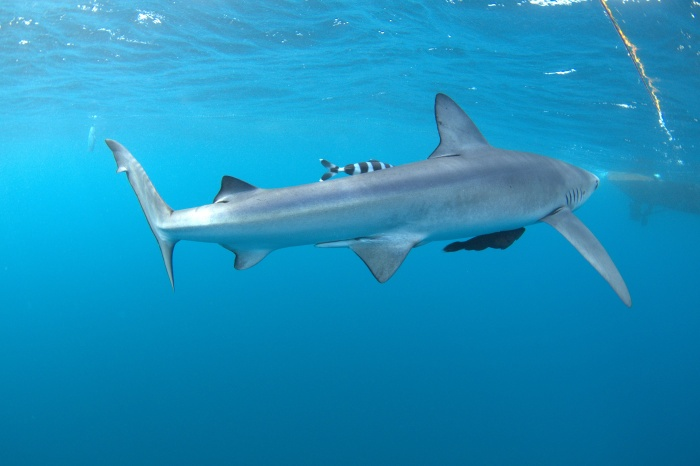Azul: (84, 88, 665, 330)
